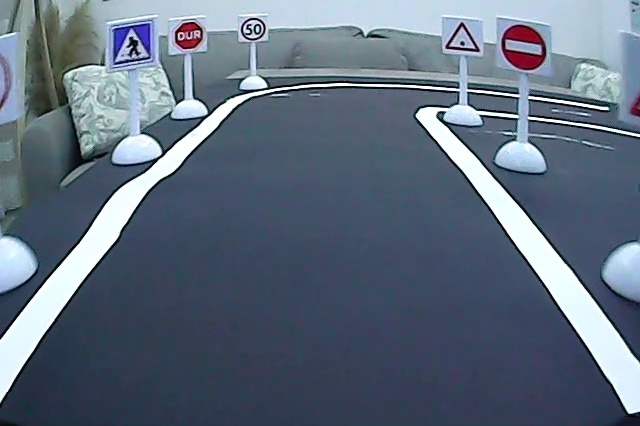do not enter: (498, 20, 551, 74)
green light: (442, 19, 482, 56)
pedestrian crossing: (110, 20, 154, 67)
speed limit 50: (239, 15, 271, 43)
stop sign: (172, 18, 208, 54)
